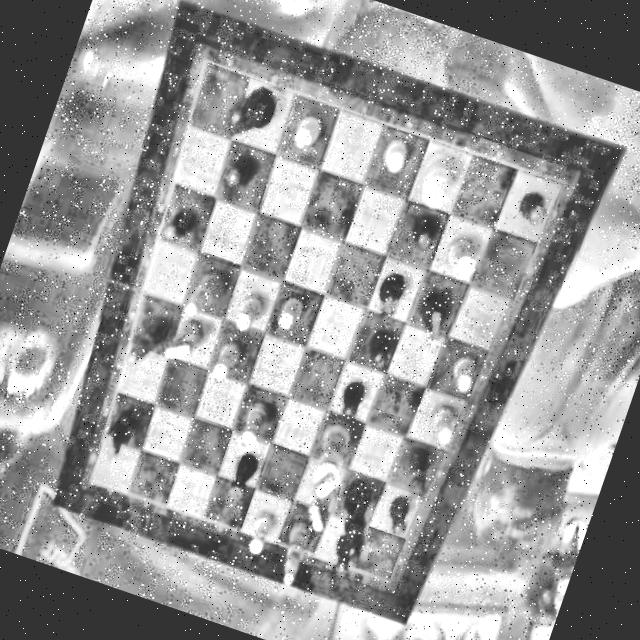black-bishop: (390, 440, 440, 508), (122, 308, 172, 373)
black-king: (322, 472, 385, 562)
black-knight: (99, 405, 142, 464), (411, 288, 452, 340)
black-pawn: (379, 491, 416, 539), (160, 201, 198, 245), (326, 529, 359, 577), (221, 147, 257, 190), (334, 378, 366, 423), (514, 186, 550, 224), (406, 212, 439, 252), (363, 326, 394, 368)
black-queen: (220, 76, 280, 141)
black-rook: (222, 447, 260, 505), (368, 267, 406, 318)
white-bishop: (274, 516, 316, 584), (184, 264, 226, 320)
white-king: (302, 412, 360, 500)
white-knight: (162, 311, 207, 366), (298, 472, 338, 532)
white-pawn: (424, 396, 461, 441), (444, 348, 480, 392), (244, 506, 276, 554), (234, 288, 268, 332), (210, 338, 242, 382), (290, 111, 322, 151), (276, 291, 306, 333), (378, 134, 408, 171)
white-queen: (409, 142, 462, 210)
white-rook: (438, 230, 482, 279), (235, 396, 272, 451)
